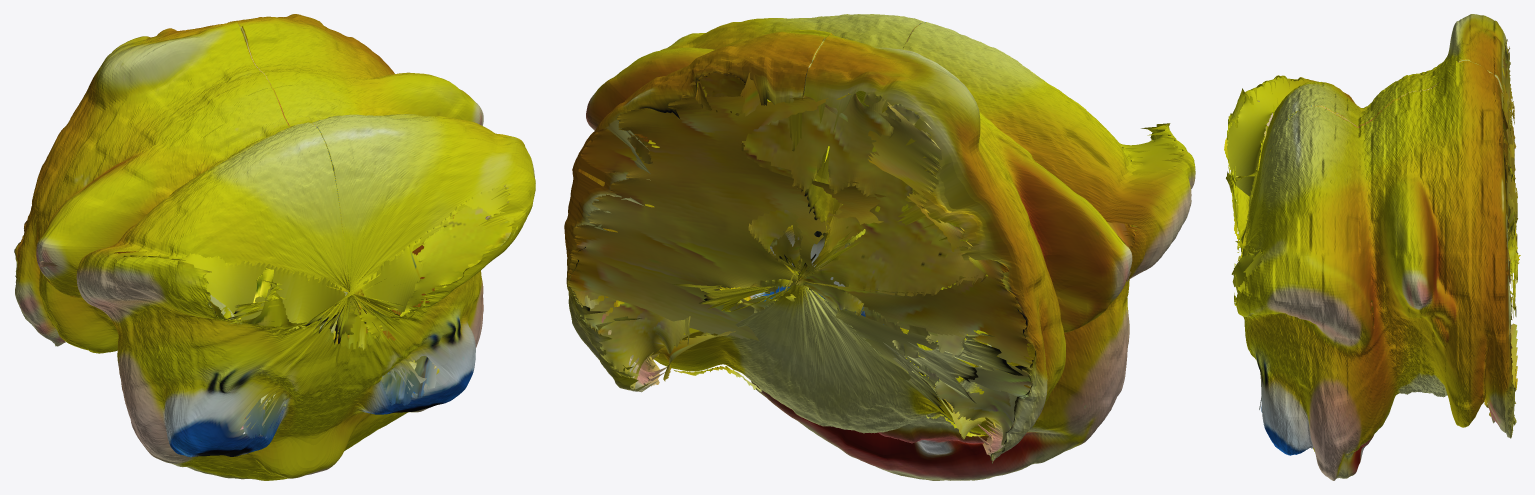
Rendered from mesh_inpaint.glb.
3 views of the same model, side by side, from view 1: azimuth 30°, elevation 25°; view 2: azimuth 150°, elevation 25°; view 3: azimuth 270°, elevation 25° (orthographic). The views are drawn at different scales.
Visible parts, largest first — view 1: ipn, fill; view 2: ipn, fill; view 3: ipn, fill.
Boxes of the visible parts, x1,y1,x2,y2 form: ipn: (14,14,535,480); fill: (15,185,517,440); ipn: (564,14,1195,480); fill: (567,70,1183,454); ipn: (1227,14,1517,480); fill: (1224,39,1520,430).
Size of the model in its own units: 1.95 by 1.71 by 1.14.
Materials: 2 (1 with a texture image).
